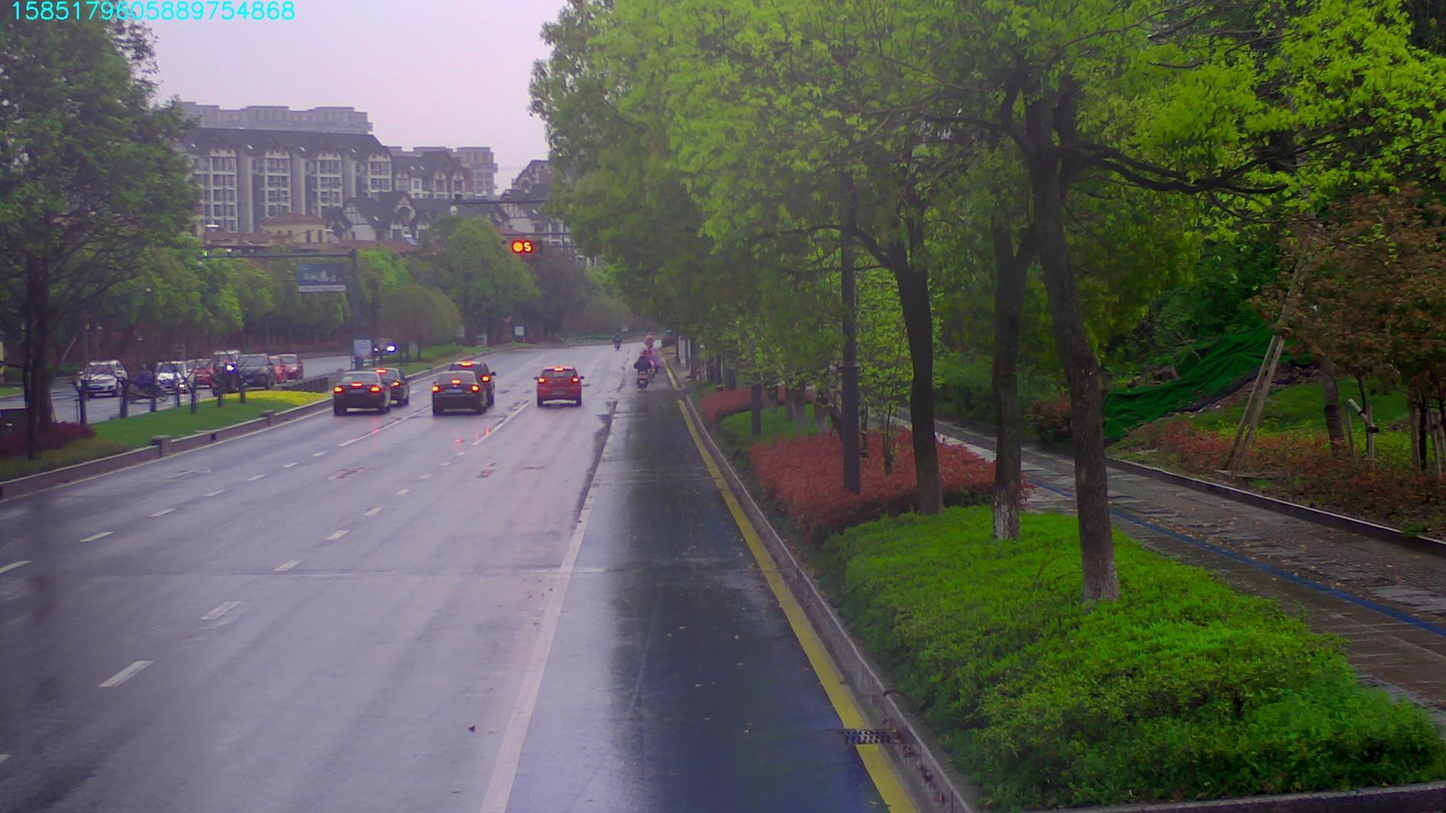red: (511, 237, 543, 255)
